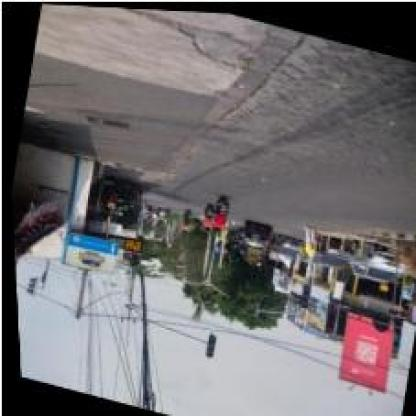yellow: (197, 330, 214, 355), (293, 281, 308, 305)
